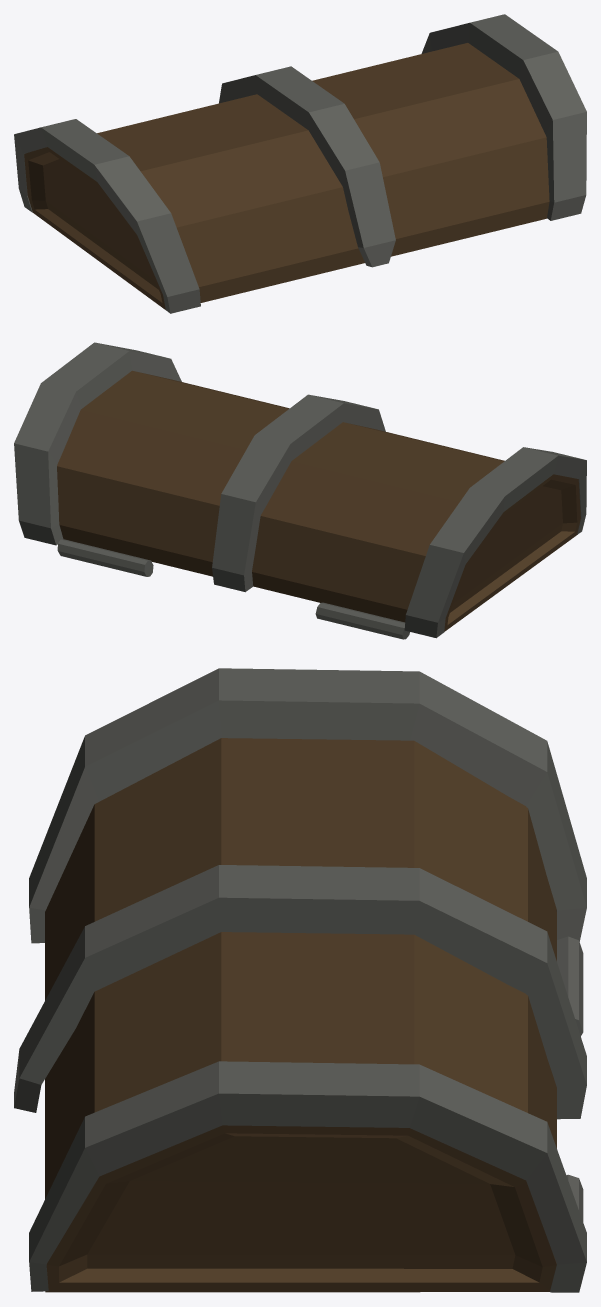
The model's file is ChestSmall_Lid.glb.
The picture shows the model from 3 angles, top to bottom: view 1: azimuth 30°, elevation 25°; view 2: azimuth 150°, elevation 25°; view 3: azimuth 270°, elevation 25°; orthographic projection. The views are drawn at different scales.
Visible parts, largest first — view 1: ChestSmall_Lid.001; view 2: ChestSmall_Lid.001; view 3: ChestSmall_Lid.001.
Boxes of the visible parts, box(x1,y1,x2,y2) form: ChestSmall_Lid.001: box(14, 14, 586, 313); ChestSmall_Lid.001: box(14, 342, 586, 639); ChestSmall_Lid.001: box(14, 668, 586, 1292).
Size of the model in its own units: 0.5224 by 0.1408 by 0.2975.
2 materials, 2 textured.
